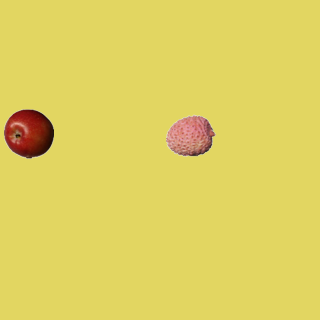Apple Braeburn: (3, 108, 53, 158)
Lychee: (165, 110, 215, 160)
